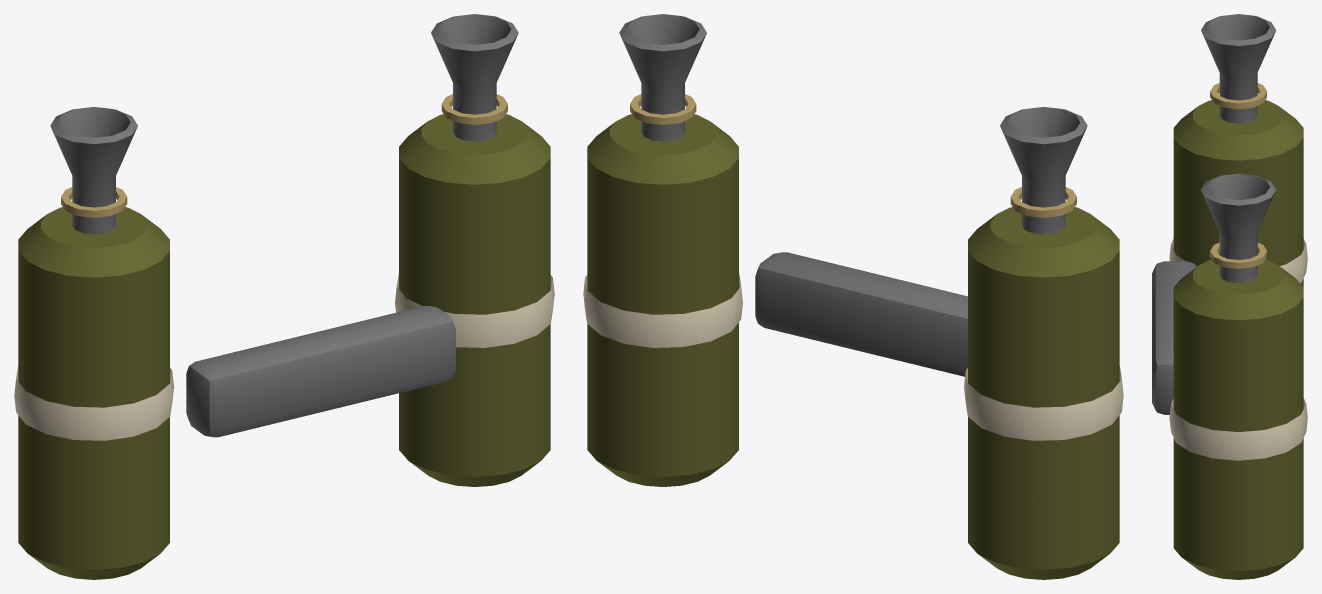
Rendered from Kit_Active_Smoke.glb.
3 renders of one model, left to right at view 1: azimuth 30°, elevation 25°; view 2: azimuth 150°, elevation 25°; view 3: azimuth 270°, elevation 25°, orthographic. The views are drawn at different scales.
Parts seen in each view (by area): view 1: Kit_Active_Smoke; view 2: Kit_Active_Smoke; view 3: Kit_Active_Smoke.
Part boxes in pixels (x1=…): Kit_Active_Smoke: x1=14, y1=14, x2=554, y2=579; Kit_Active_Smoke: x1=583, y1=14, x2=1123, y2=579; Kit_Active_Smoke: x1=1152, y1=14, x2=1307, y2=579.
Bounding box in the file's own units: 0.328 × 0.262 × 0.099.
